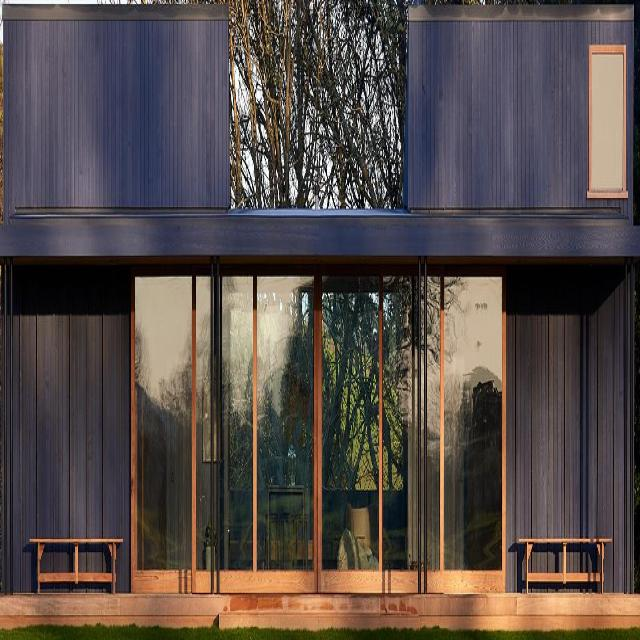wall: (0, 0, 640, 633)
windows: (130, 269, 505, 572), (589, 43, 626, 194)
